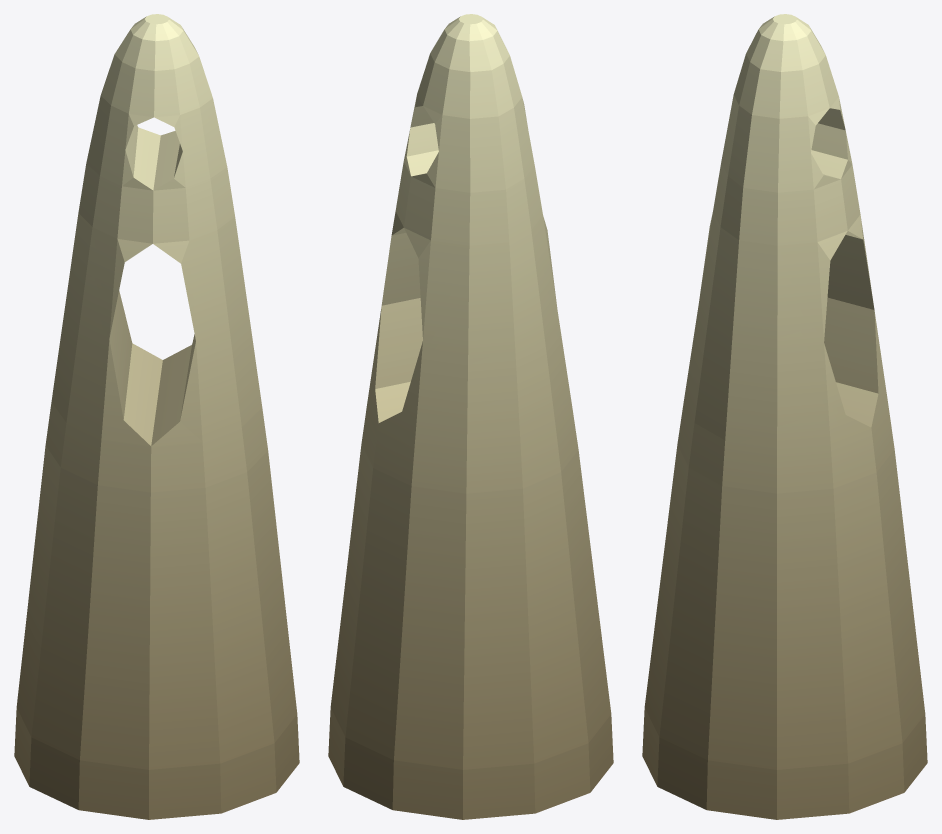
The model's file is ModernPillar_01.fbx.
The picture shows the model from 3 angles, left to right: view 1: azimuth 30°, elevation 25°; view 2: azimuth 150°, elevation 25°; view 3: azimuth 270°, elevation 25°; orthographic projection.
Visible parts, largest first — view 1: ModernPillar_01_Mesh; view 2: ModernPillar_01_Mesh; view 3: ModernPillar_01_Mesh.
Boxes of the visible parts, x1,y1,x2,y2 form: ModernPillar_01_Mesh: (14, 14, 299, 819); ModernPillar_01_Mesh: (328, 14, 613, 819); ModernPillar_01_Mesh: (642, 14, 927, 819).
Size of the model in its own units: 213 by 609 by 213.
